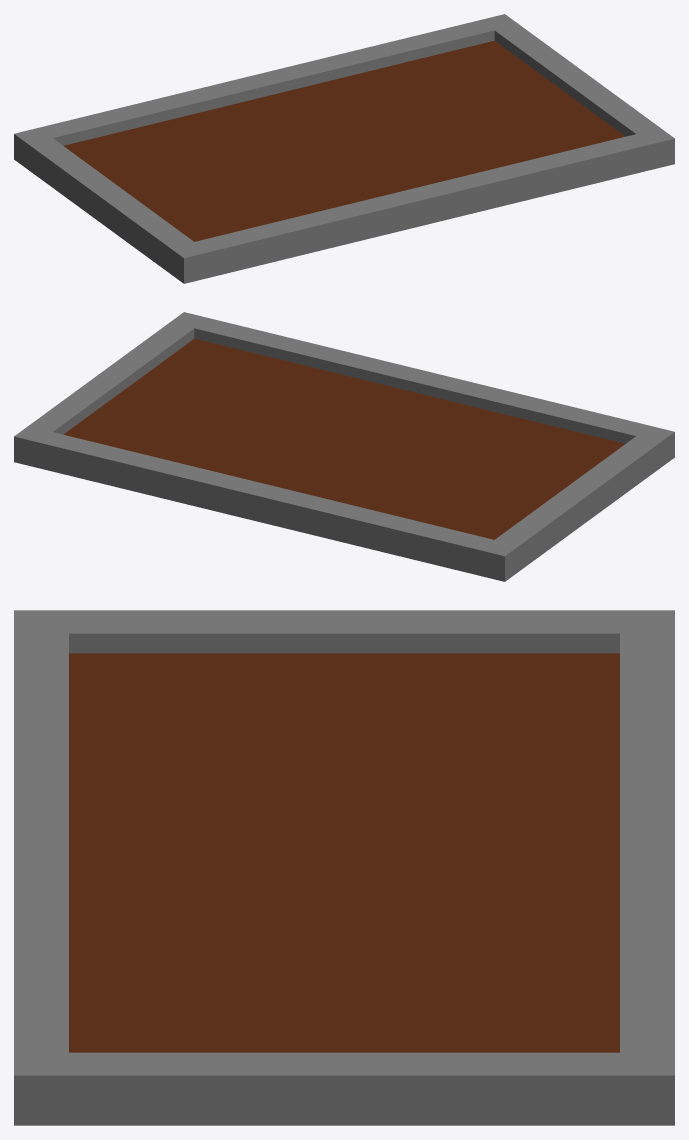
File: chestlid.fbx
3 views of the same model, one above another, from view 1: azimuth 30°, elevation 25°; view 2: azimuth 150°, elevation 25°; view 3: azimuth 270°, elevation 25° (orthographic). The views are drawn at different scales.
Visible parts, largest first — view 1: ChestLid.001; view 2: ChestLid.001; view 3: ChestLid.001.
Boxes of the visible parts, x1=… form: ChestLid.001: x1=14, y1=14, x2=674, y2=283; ChestLid.001: x1=14, y1=312, x2=674, y2=581; ChestLid.001: x1=14, y1=610, x2=674, y2=1125.
Size of the model in its own units: 100 by 5 by 60.
